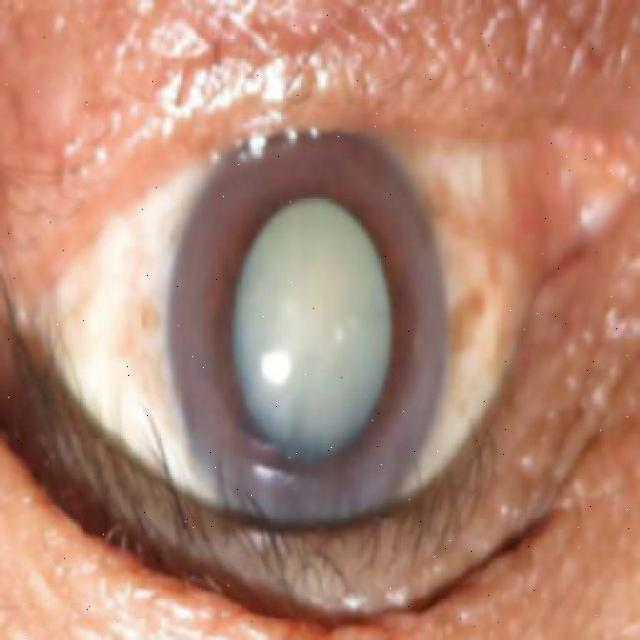Cataract: (168, 119, 448, 526)
